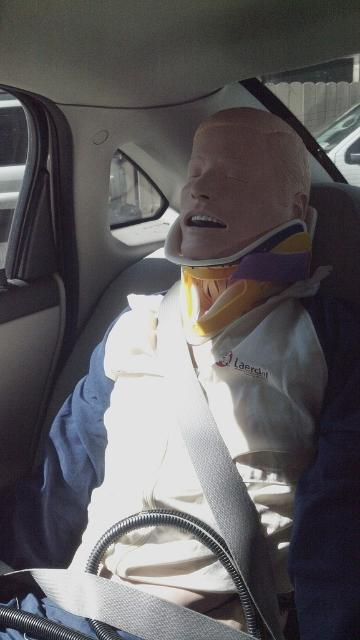Seatbelt: (157, 281, 283, 639)
